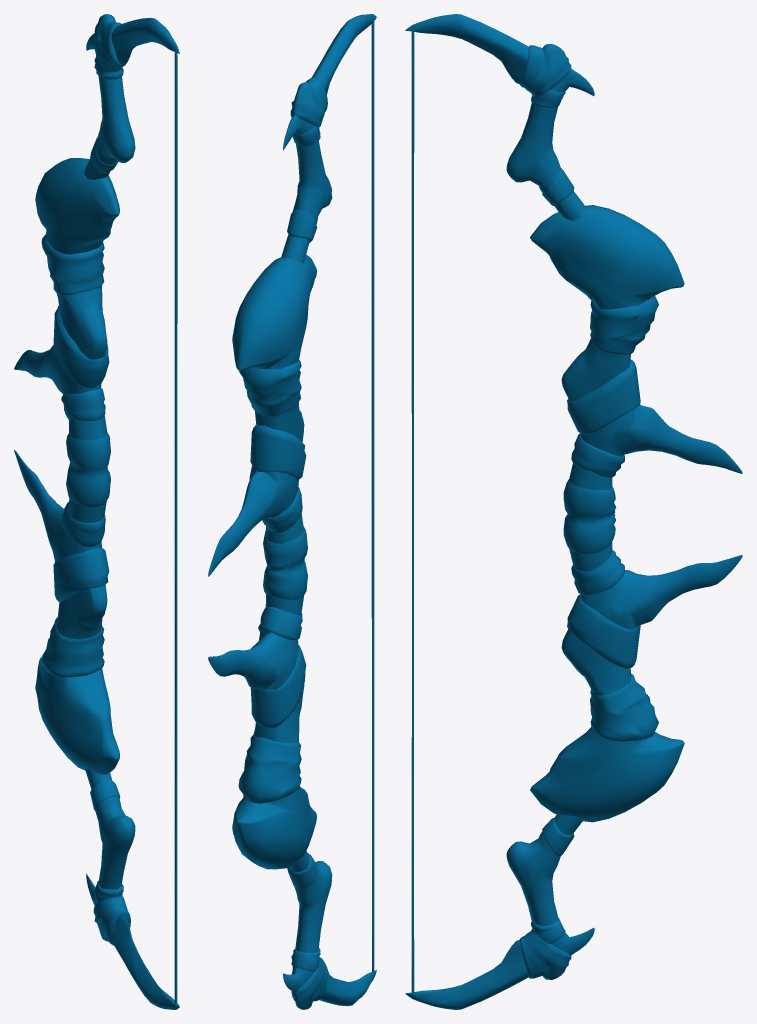
Rendered from Orc_Bow.fbx.
3 renders of one model, left to right at view 1: azimuth 30°, elevation 25°; view 2: azimuth 150°, elevation 25°; view 3: azimuth 270°, elevation 25°, orthographic.
Parts seen in each view (by area): view 1: Bow_low; view 2: Bow_low; view 3: Bow_low.
Part boxes in pixels (x1=…): Bow_low: x1=14, y1=14, x2=179, y2=1009; Bow_low: x1=208, y1=14, x2=376, y2=1009; Bow_low: x1=405, y1=14, x2=742, y2=1009.
Bounding box in the file's own units: 12.01 × 211 × 64.7.
